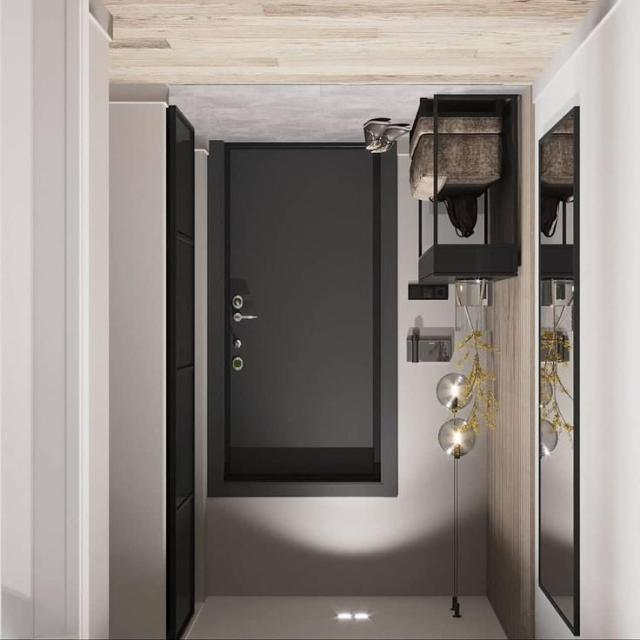close: (210, 137, 397, 493)
